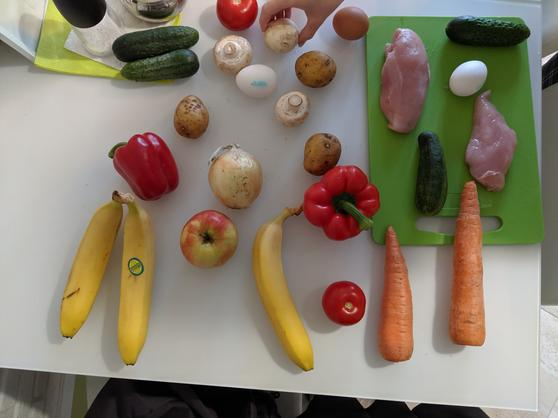apple: (180, 209, 239, 266)
banana: (253, 206, 324, 373), (108, 191, 160, 366), (65, 193, 118, 353)
carrot: (447, 178, 487, 351), (374, 224, 415, 367)
champignon: (277, 88, 311, 123)
chicken_fillet: (381, 18, 435, 139), (466, 93, 523, 191)
cucumber: (114, 24, 206, 54), (123, 48, 202, 82), (447, 12, 530, 44)
egg: (232, 63, 283, 96), (448, 59, 492, 97), (333, 5, 374, 45)
onion: (209, 142, 265, 206)
pepper: (112, 127, 184, 202), (298, 167, 381, 232)
potato: (300, 130, 345, 175), (295, 48, 342, 91), (174, 97, 212, 136)
tomato: (323, 278, 368, 323), (221, 1, 262, 35)
